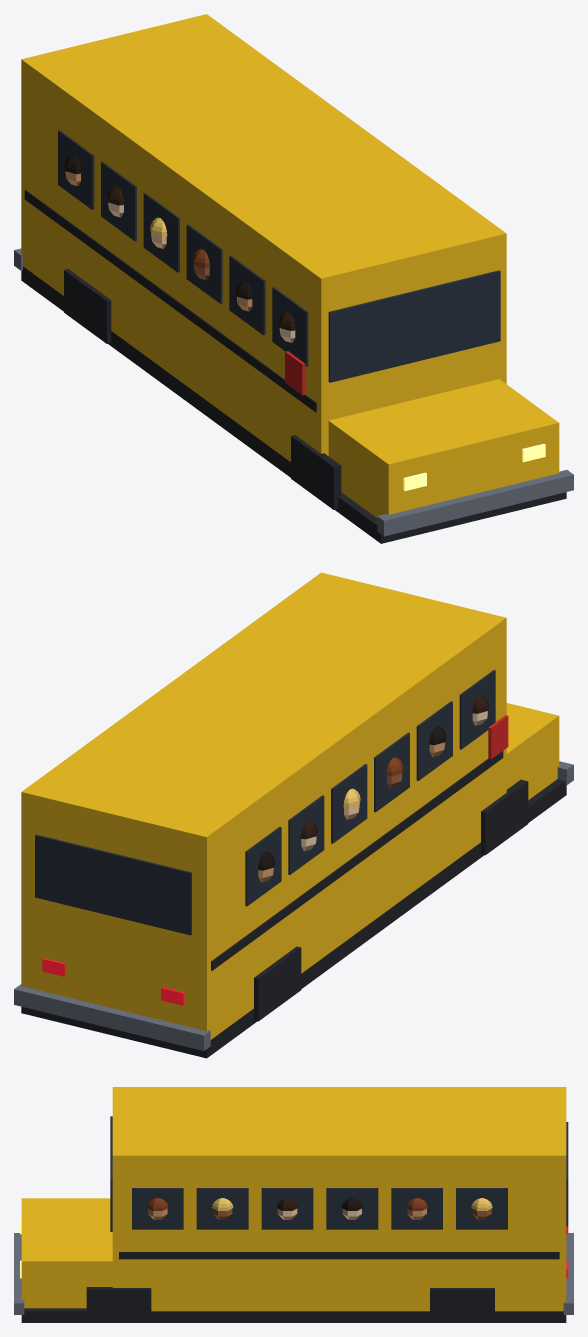
File: school_bus.glb
The picture shows the model from 3 angles, top to bottom: view 1: azimuth 30°, elevation 25°; view 2: azimuth 150°, elevation 25°; view 3: azimuth 270°, elevation 25°; orthographic projection. The views are drawn at different scales.
Parts seen in each view (by area): view 1: body_bus_yellow, body_car_black, body_truck_glass, windows_truck_glass, body_car_grey, kids, body_stop_red, lights_lamp; view 2: body_bus_yellow, body_car_black, windows_truck_glass, body_truck_glass, body_car_grey, kids, body_stop_red, lights_tail; view 3: body_bus_yellow, body_car_black, windows_truck_glass, kids, body_car_grey, body_truck_glass.
Boxes of the visible parts, box(x1,y1,x2,y2) form: body_bus_yellow: box(21, 14, 559, 517); body_car_black: box(21, 190, 566, 543); body_truck_glass: box(328, 270, 500, 382); windows_truck_glass: box(58, 130, 308, 366); body_car_grey: box(14, 248, 573, 536); kids: box(64, 155, 295, 342); body_stop_red: box(285, 351, 305, 395); lights_lamp: box(403, 443, 545, 491); body_bus_yellow: box(21, 572, 559, 1039); body_car_black: box(21, 751, 566, 1058); windows_truck_glass: box(245, 670, 495, 906); body_truck_glass: box(35, 834, 191, 935); body_car_grey: box(14, 761, 573, 1050); kids: box(258, 694, 488, 882); body_stop_red: box(488, 715, 508, 759); lights_tail: box(42, 958, 184, 1005); body_bus_yellow: box(21, 1087, 566, 1311); body_car_black: box(21, 1252, 566, 1322); windows_truck_glass: box(132, 1188, 507, 1229); kids: box(147, 1198, 492, 1219); body_car_grey: box(14, 1233, 573, 1314); body_truck_glass: box(110, 1116, 568, 1231).
Size of the model in its own units: 2.79 by 2.85 by 8.64.
